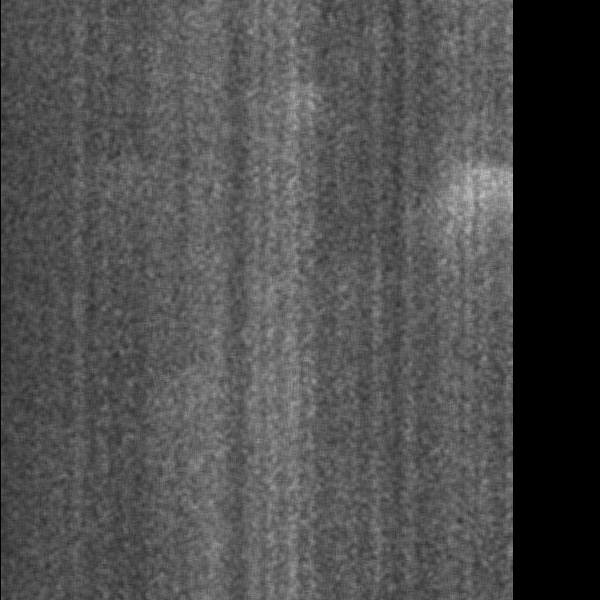spark: (480, 153, 511, 255)
